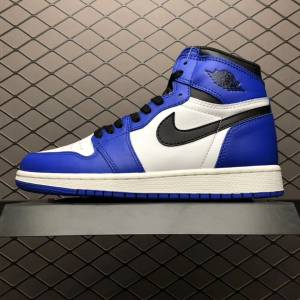Jordan 1: (13, 44, 288, 205)
